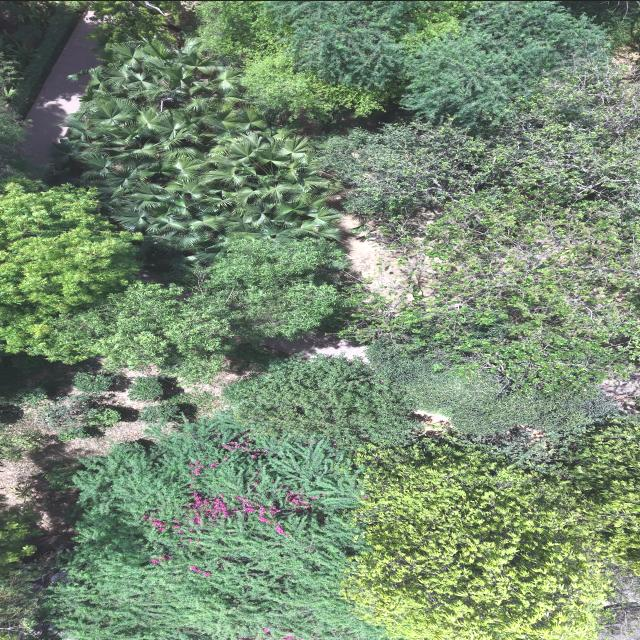DRY_AREA: (23, 14, 99, 164)
VEGETATION_TREE: (0, 1, 639, 639), (326, 59, 637, 562), (51, 409, 638, 639), (324, 58, 637, 471), (324, 62, 637, 388), (56, 41, 343, 378), (51, 415, 379, 639), (57, 40, 340, 262), (343, 431, 637, 639), (196, 1, 637, 121), (225, 346, 637, 474), (264, 1, 607, 119), (56, 239, 343, 379), (367, 344, 637, 473), (0, 181, 138, 361), (401, 1, 607, 121), (197, 1, 381, 119), (56, 282, 243, 378), (225, 356, 420, 446), (264, 1, 431, 90), (194, 239, 344, 338), (0, 356, 132, 440), (242, 47, 382, 120), (0, 1, 87, 116), (3, 1, 81, 116), (0, 353, 56, 461), (196, 1, 290, 65), (0, 505, 38, 639), (0, 510, 37, 639), (87, 1, 182, 46), (0, 1, 58, 71), (31, 395, 121, 440), (563, 1, 638, 50), (0, 102, 34, 181), (31, 395, 94, 431), (0, 424, 50, 461), (166, 386, 220, 420), (139, 401, 184, 426), (128, 376, 164, 402), (74, 372, 116, 393), (43, 467, 77, 491), (10, 387, 49, 407), (0, 394, 23, 425), (56, 426, 103, 441), (86, 406, 122, 425)
